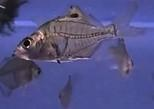Glass Perchlet: (11, 4, 144, 61), (0, 57, 46, 98), (105, 39, 140, 78), (56, 73, 81, 108)
